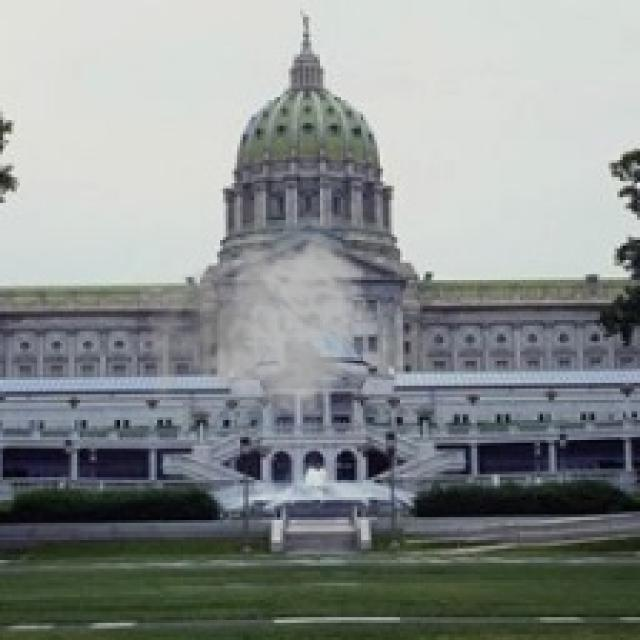Smoke: (128, 214, 372, 437)
